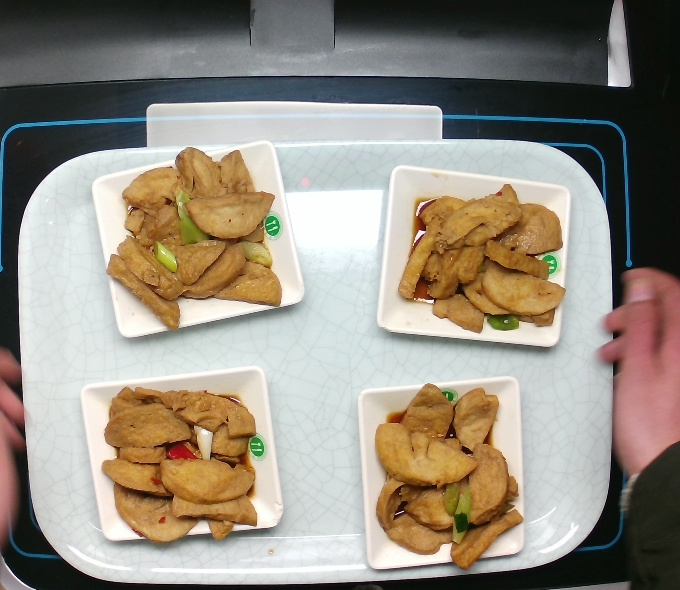wcq-SuJi: (97, 140, 295, 337), (382, 174, 580, 342), (86, 373, 275, 548), (361, 385, 532, 578)
